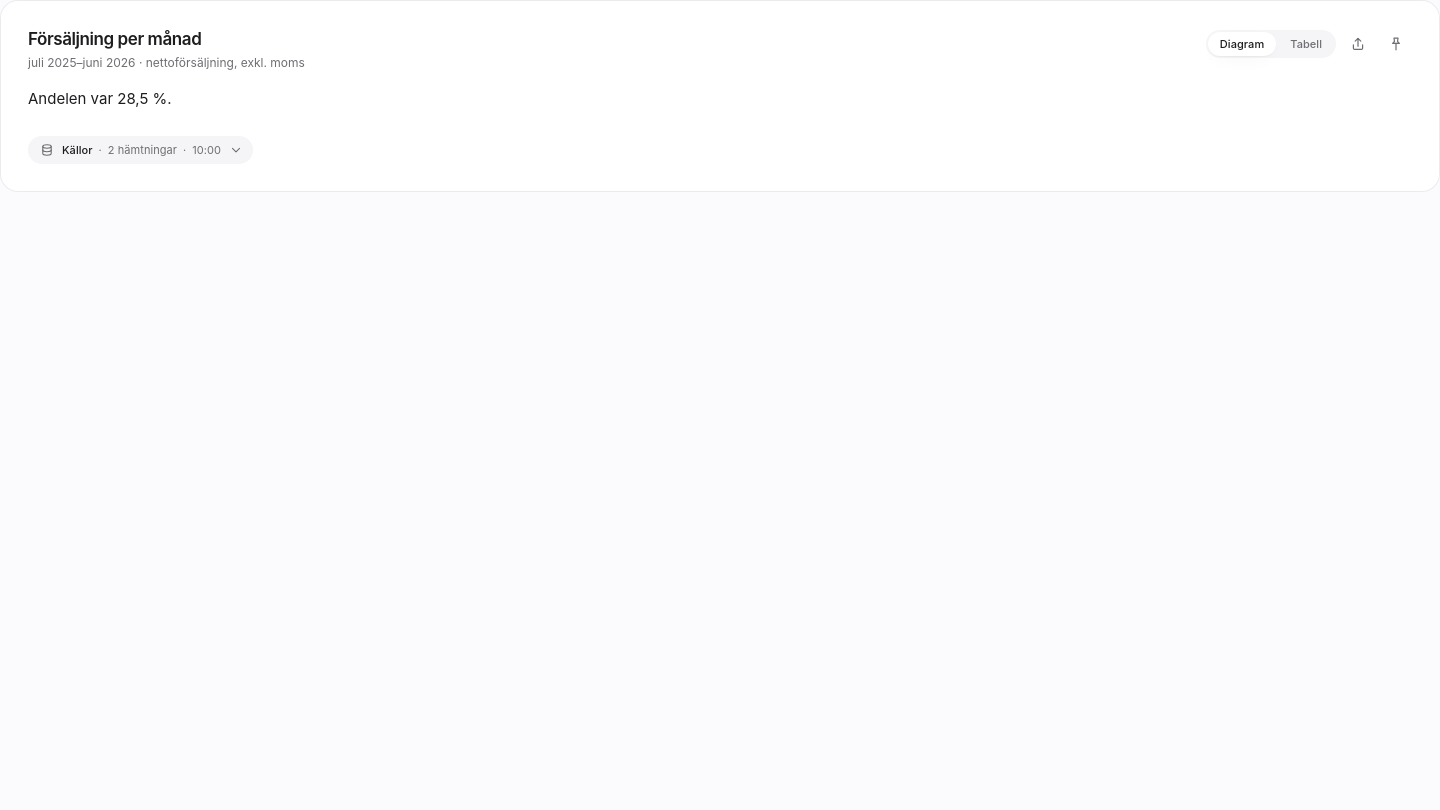
the answer card › names the figures a query licensed, once the chip is opened
Click the button "Källor·2 hämtningar·10:00" at coordinates (140, 150), box [28,136,253,164]
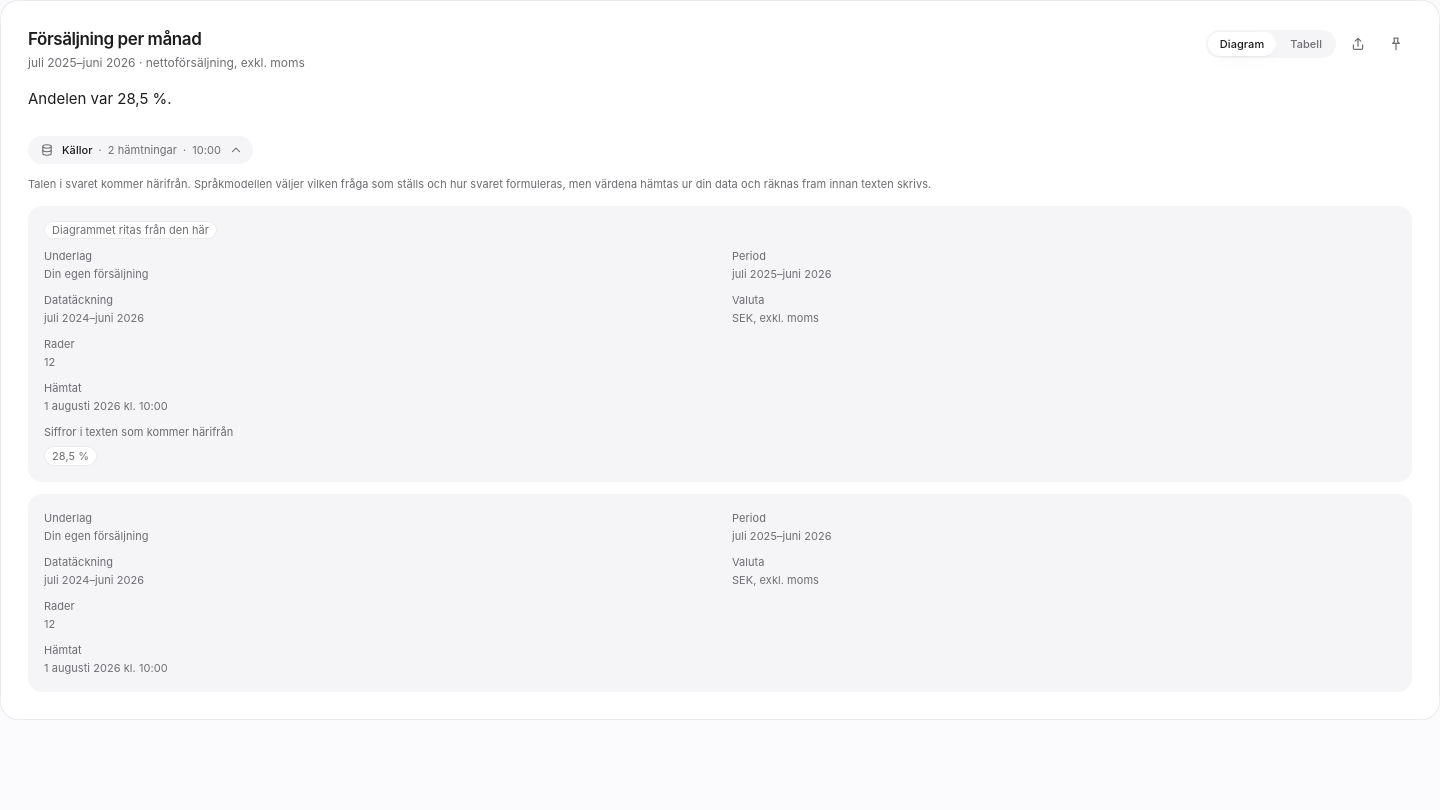
Result: the text "Siffror i texten som kommer härifrån" is shown once at [44,425,233,439]
Result: the text "28,5 %" is shown at [44,446,97,466]
